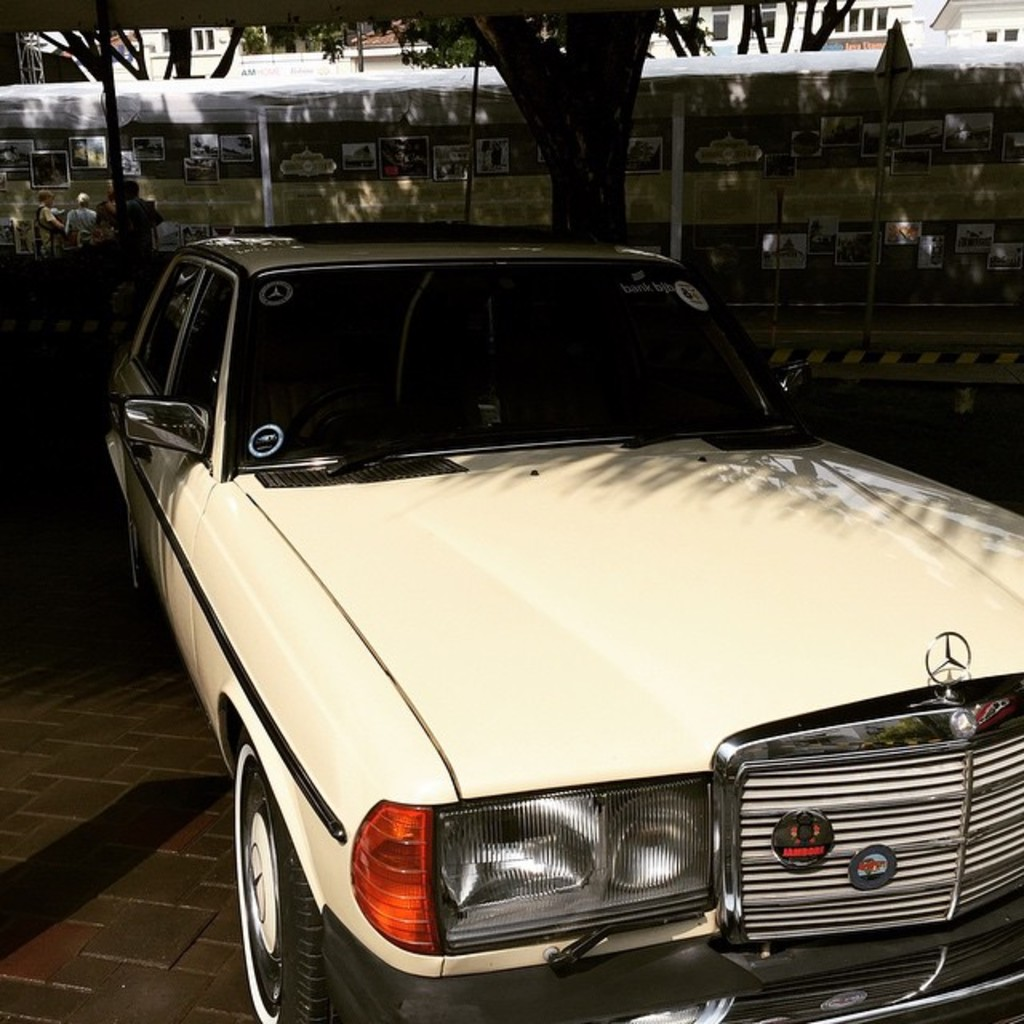Tree: (31, 0, 858, 246)
